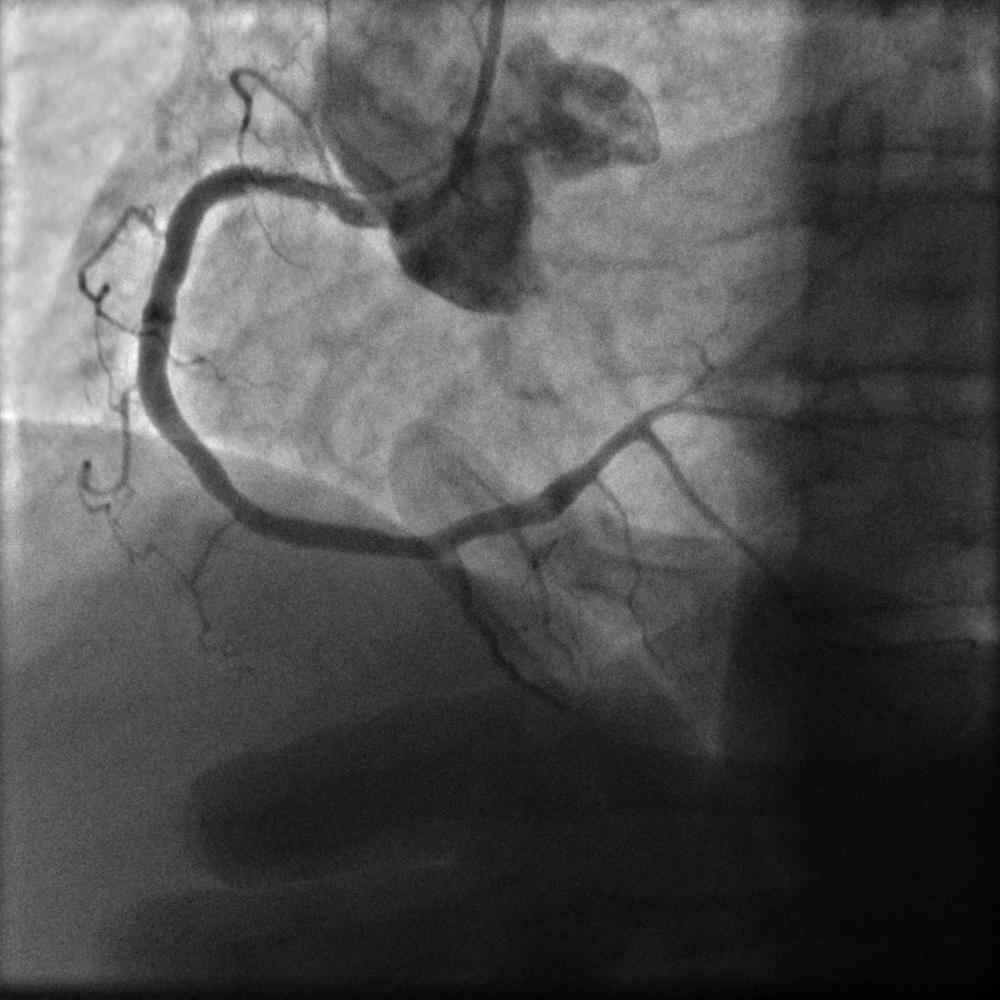Stenosis: (245, 155, 339, 214)
